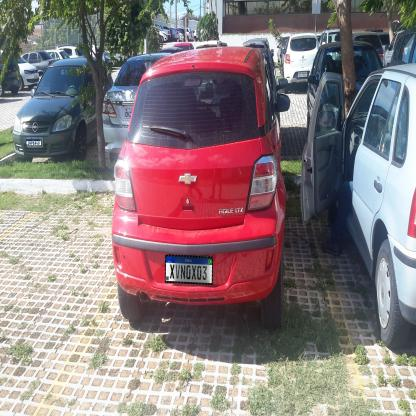PlacaM: (165, 254, 213, 284), (26, 139, 42, 146)
